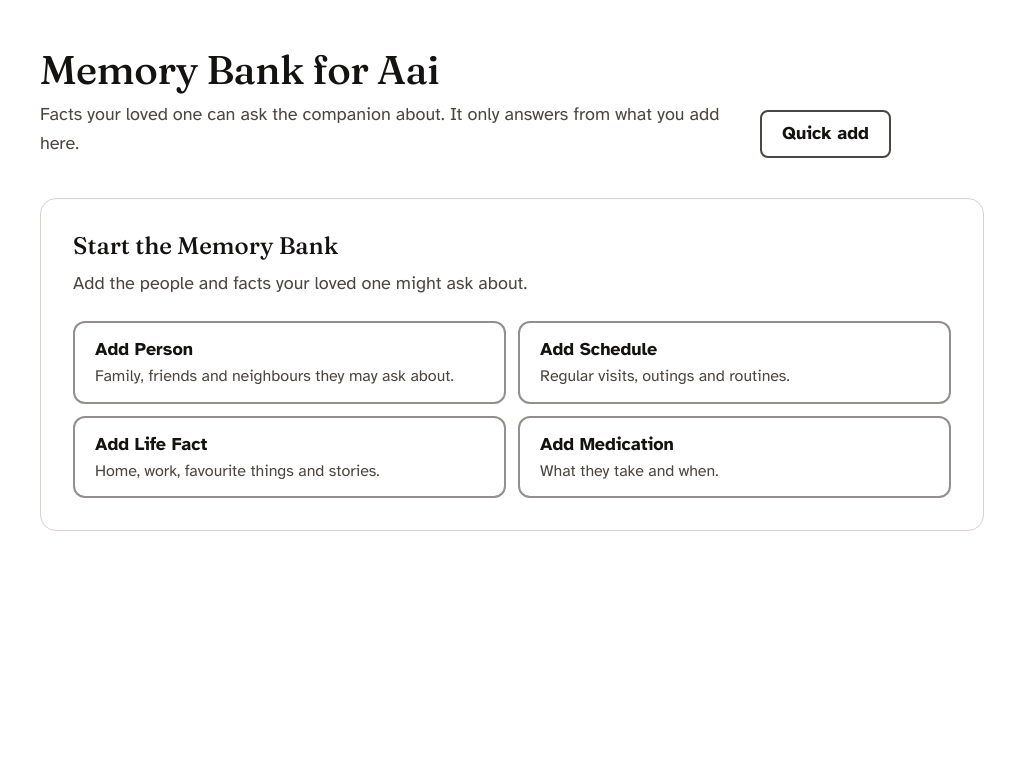
Memory Bank editor › explicit save confirmation › shows a dismissible confirmation banner after adding, and another after deleting
Click the button "Add Person" at (115, 349), box [73,321,506,404]
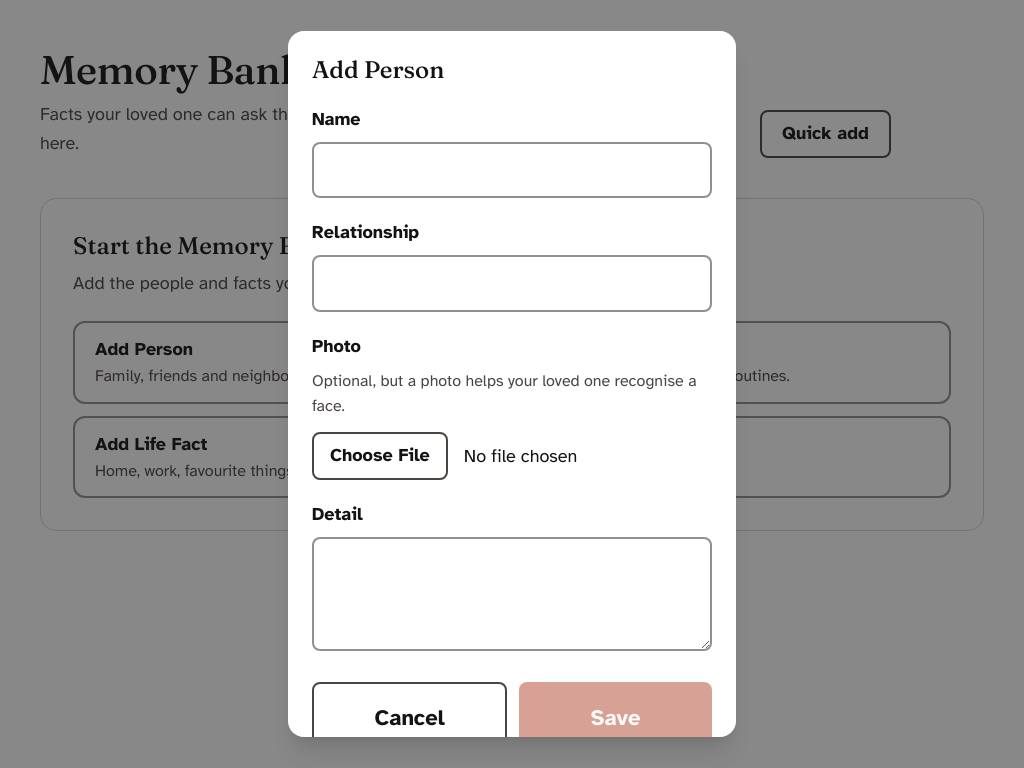
Type "Arun" into the field labelled "Name" at (512, 170), box [312,142,712,198]
Type "Visits on Sundays" into the text box labelled "Detail" at (512, 594), box [312,537,712,651]
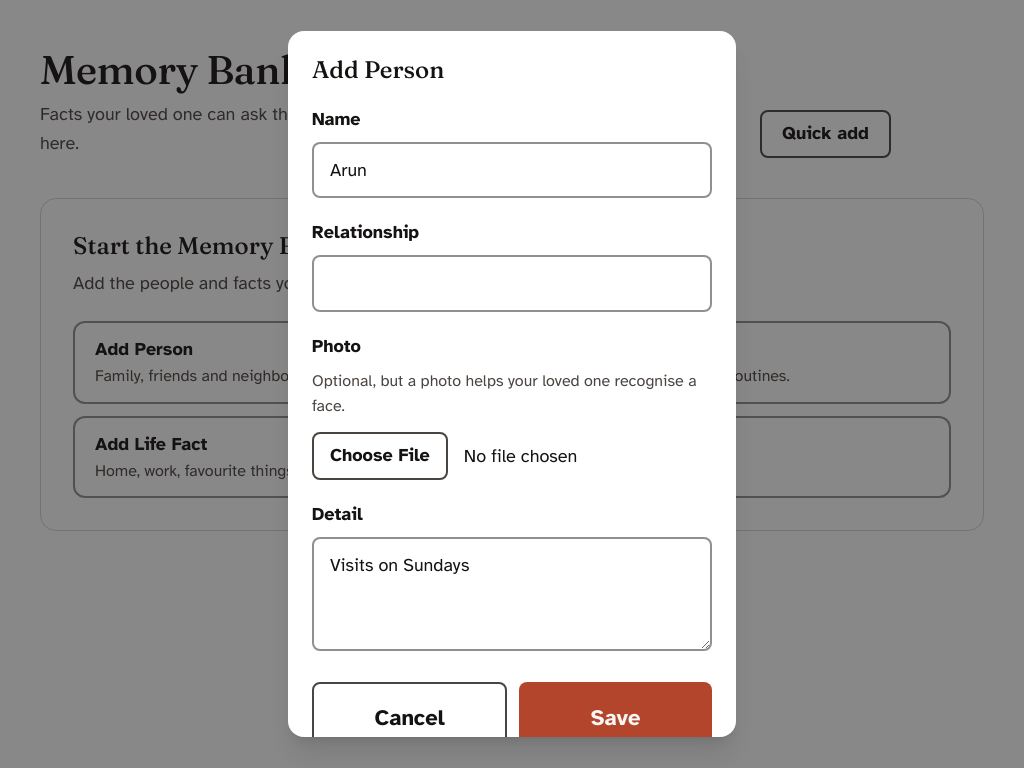
Click the button "Save" at (616, 718), box [519,682,712,754]
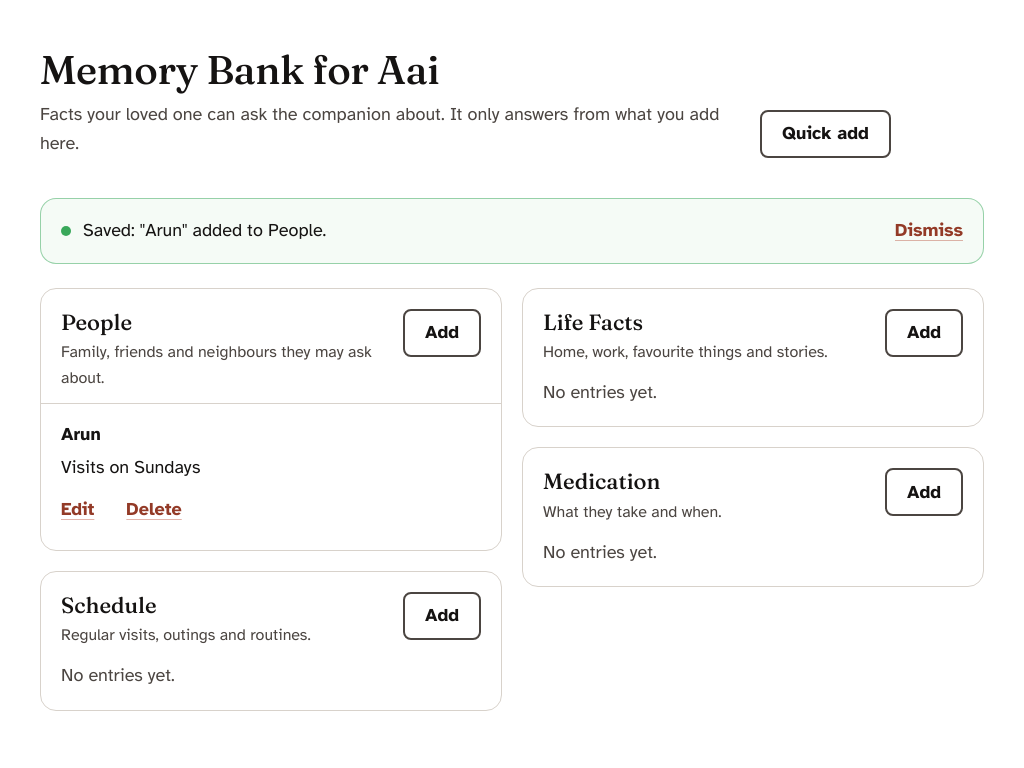
Expected: the message reads "Saved: \"Arun\" added to People. Dismiss", [83,219,326,241]
Click the button with aria-label "dismiss confirmation" at (929, 231), box [883,207,975,255]
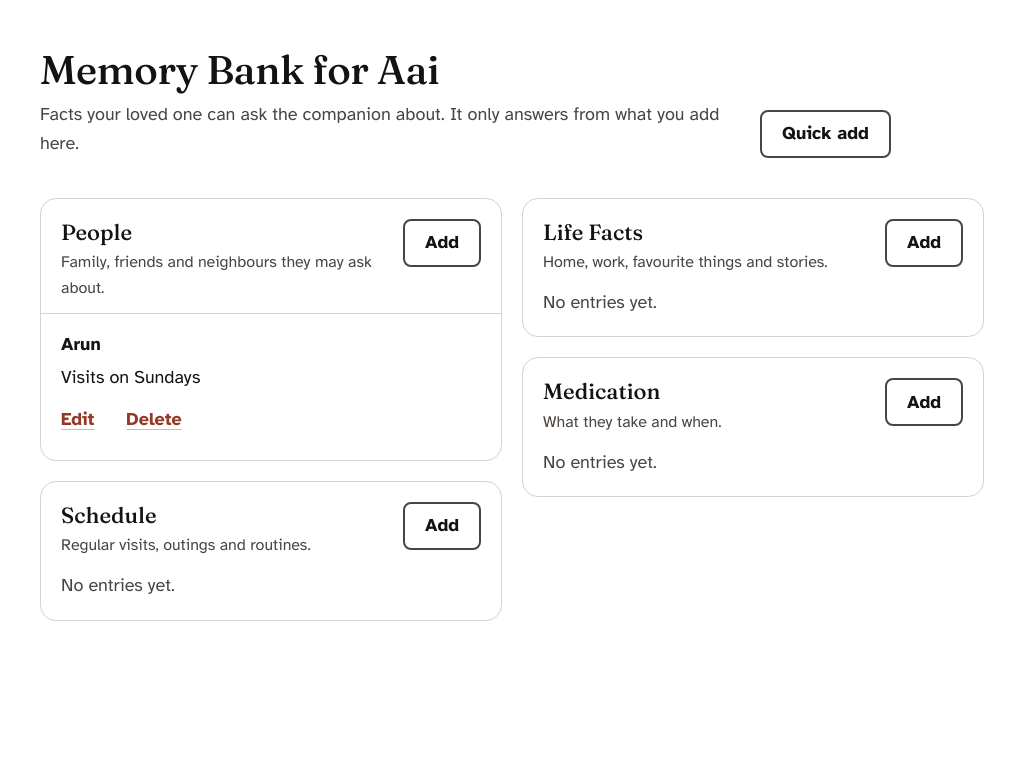
Expected: the text "Saved: \"Arun\" added to People." is gone
Click the button with aria-label "delete arun" at (154, 420), box [114,396,194,444]
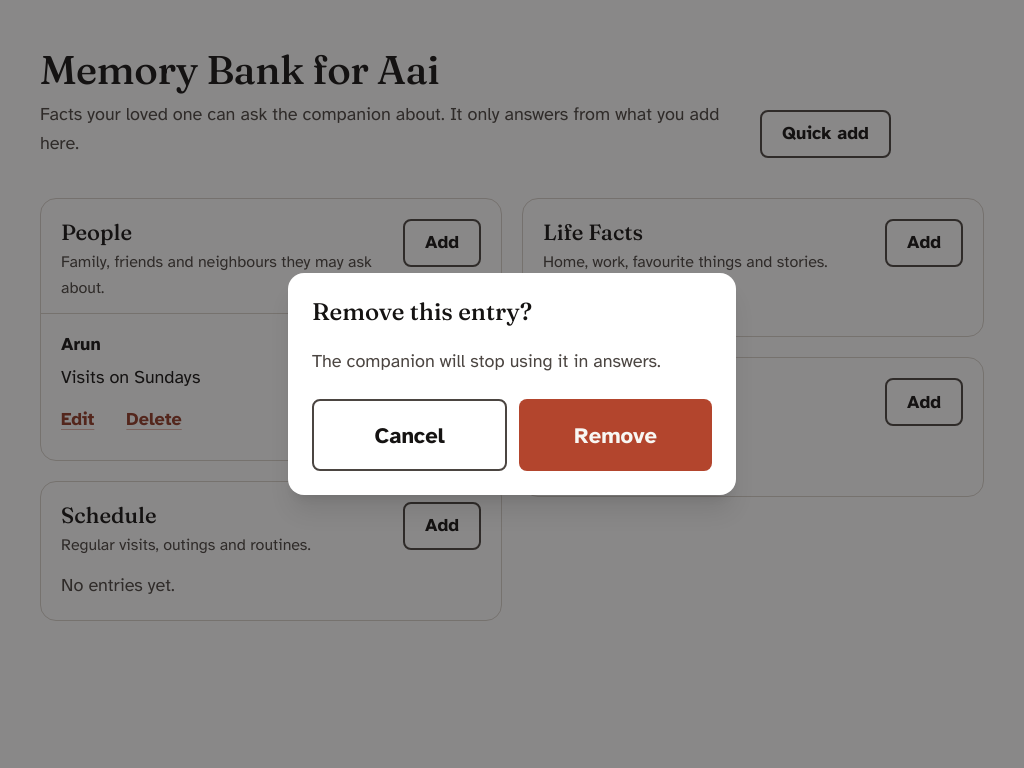
Click the button "Remove" at (616, 435), box [519,399,712,471]
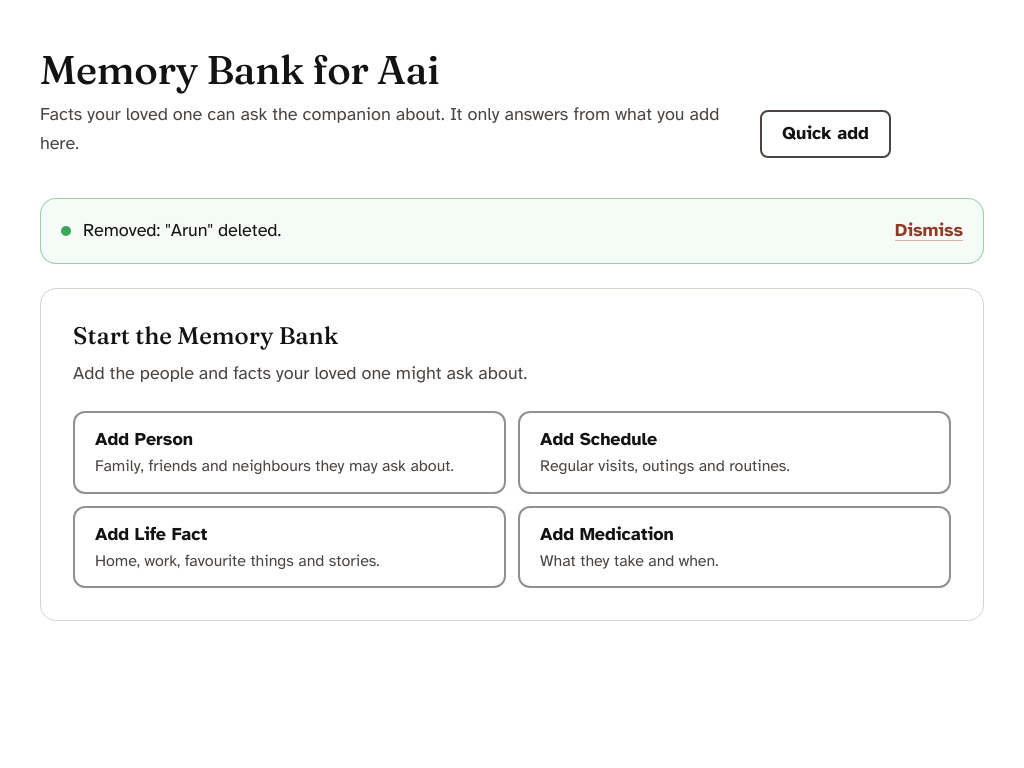
Expected: the text "Removed: \"Arun\" deleted." is shown, [61,216,281,245]
